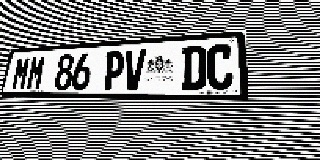6: (71, 53, 93, 90)
8: (53, 54, 76, 90)
C: (207, 44, 233, 90)
D: (181, 46, 206, 90)
M: (25, 55, 47, 90), (11, 56, 32, 90)
P: (102, 51, 125, 90)
V: (122, 49, 146, 90)
